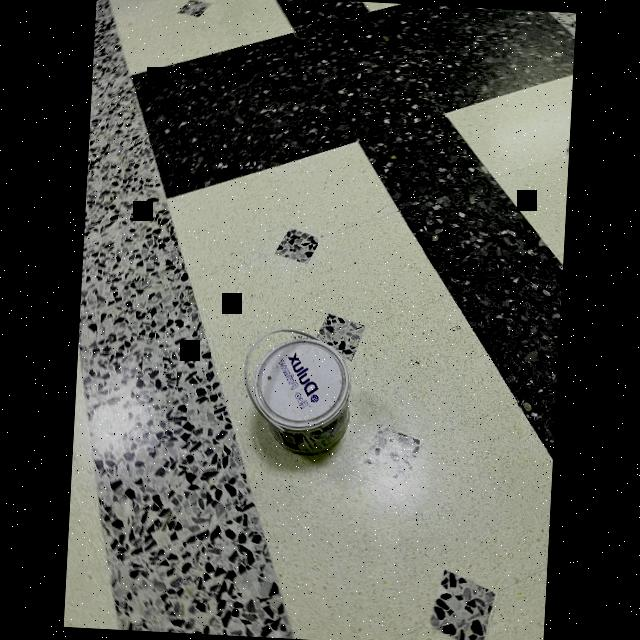paint_bucket: (232, 328, 368, 459)
